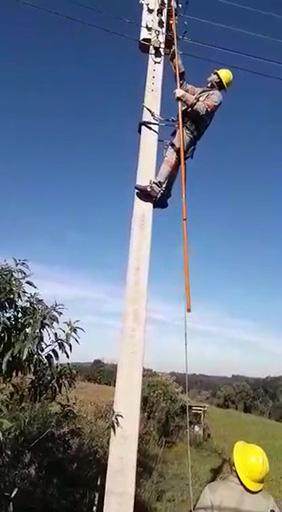Vara_Manobra: (168, 1, 193, 313)
